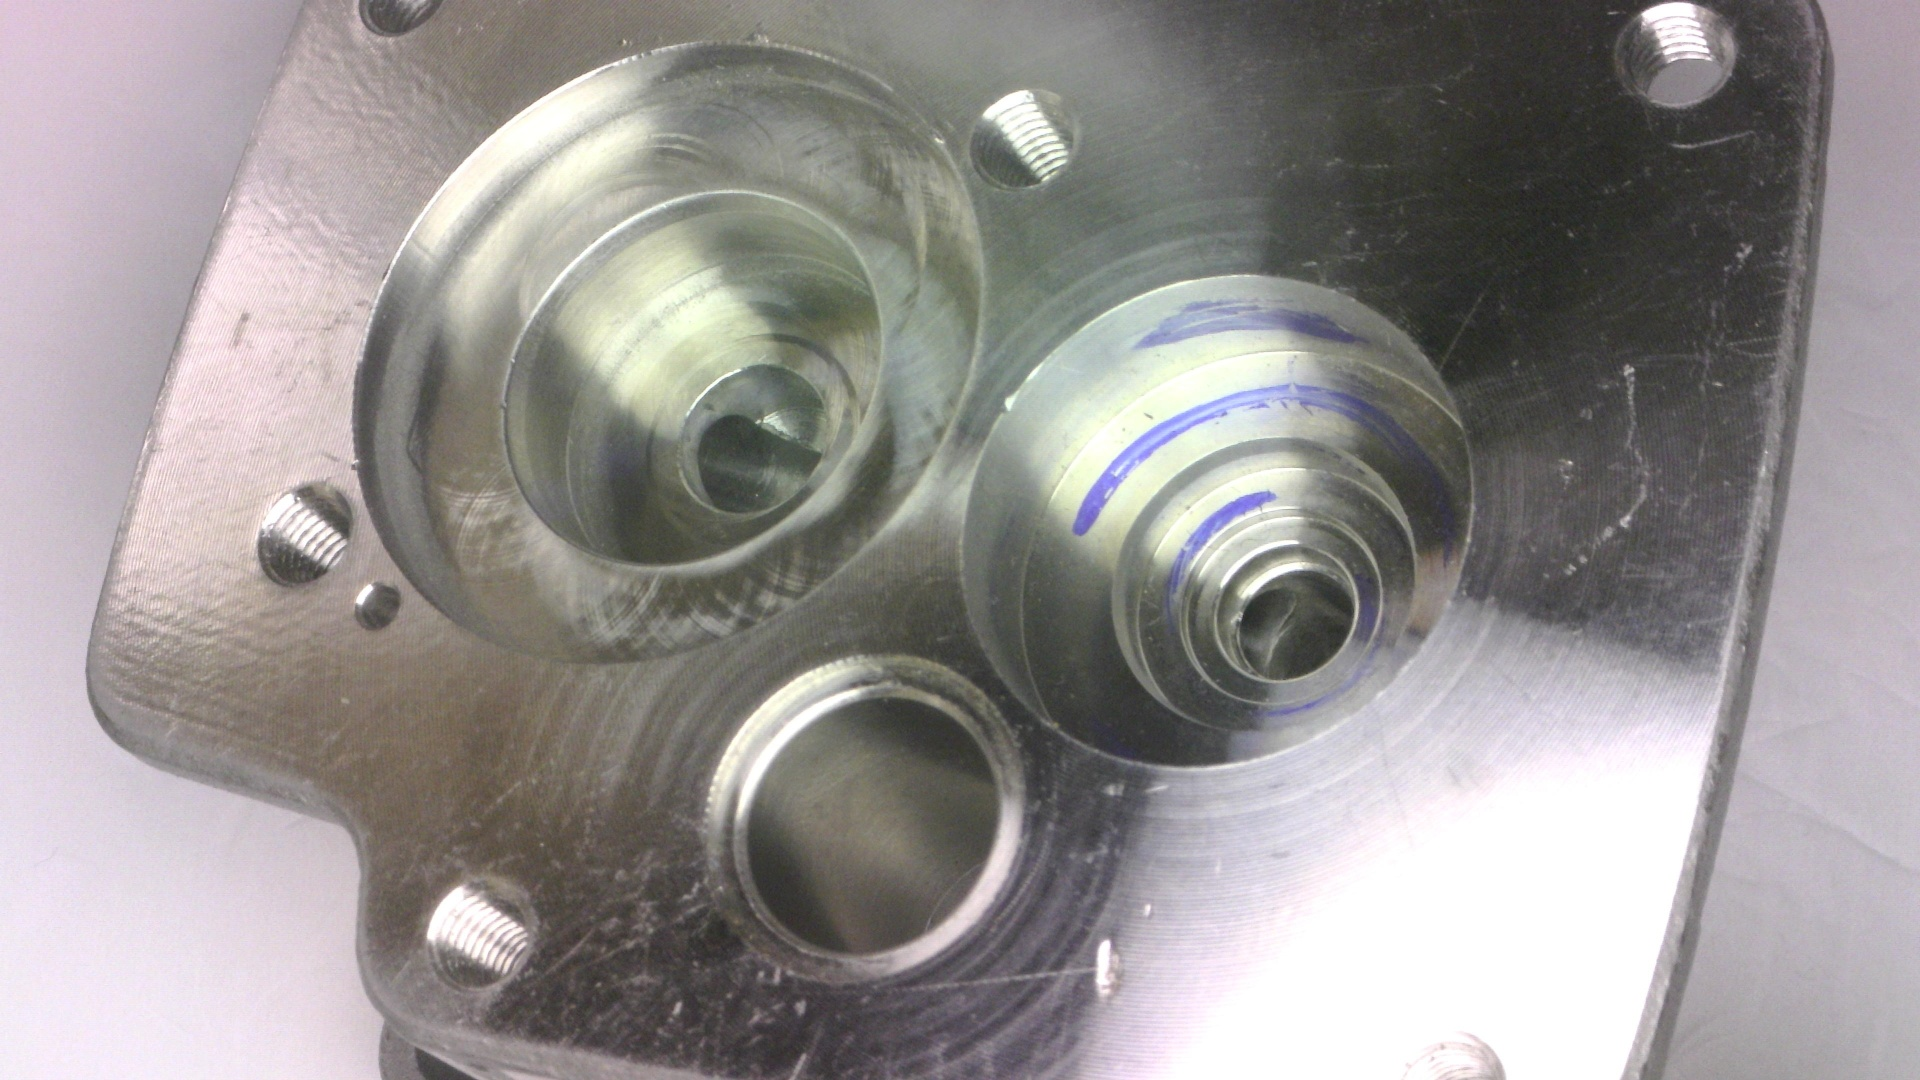chamfer_absence: (964, 32, 1873, 282), (1164, 353, 1695, 483), (1352, 637, 1709, 753), (1336, 945, 1581, 1080)
